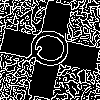Q: (25, 25, 81, 73)
